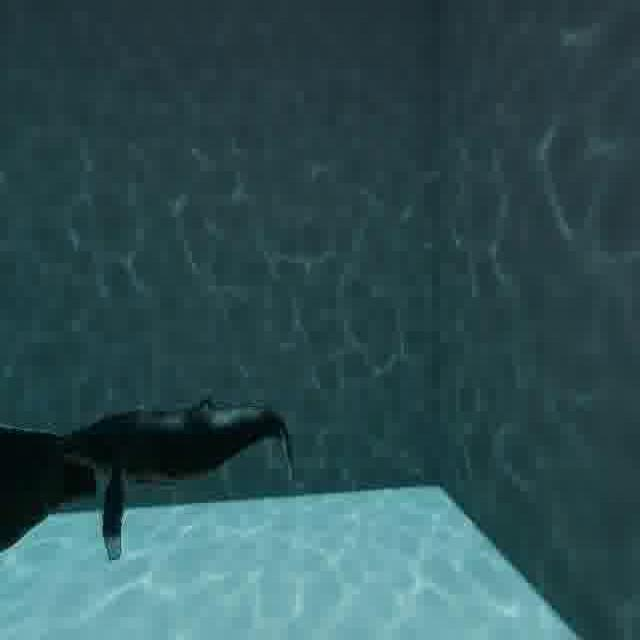Whale: (62, 376, 305, 551), (2, 389, 101, 561)
